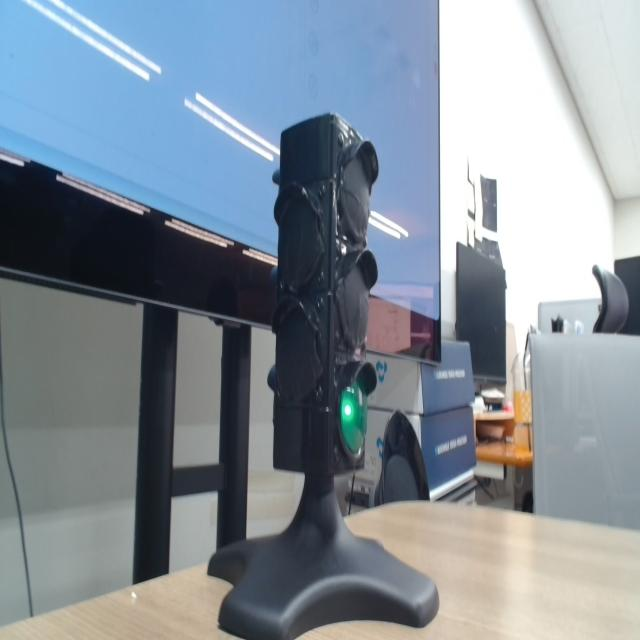green_light: (341, 381, 367, 455)
